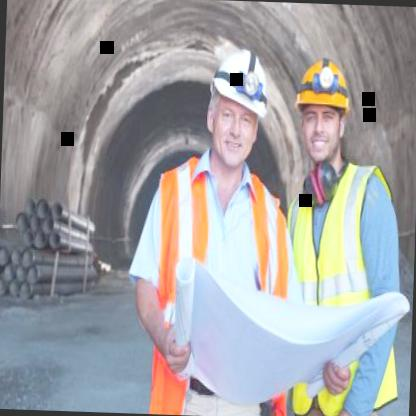helmet: (202, 40, 276, 177), (289, 53, 357, 176)
